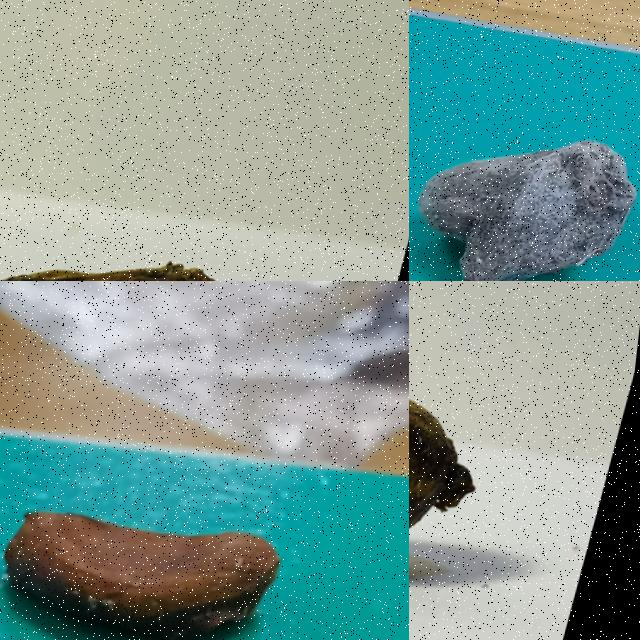Agglomerated_cocoabeans: (409, 76, 639, 280)
Fine_cocoabeans: (409, 329, 553, 634)
Flat_cocoabeans: (0, 421, 368, 639), (0, 179, 315, 280)
